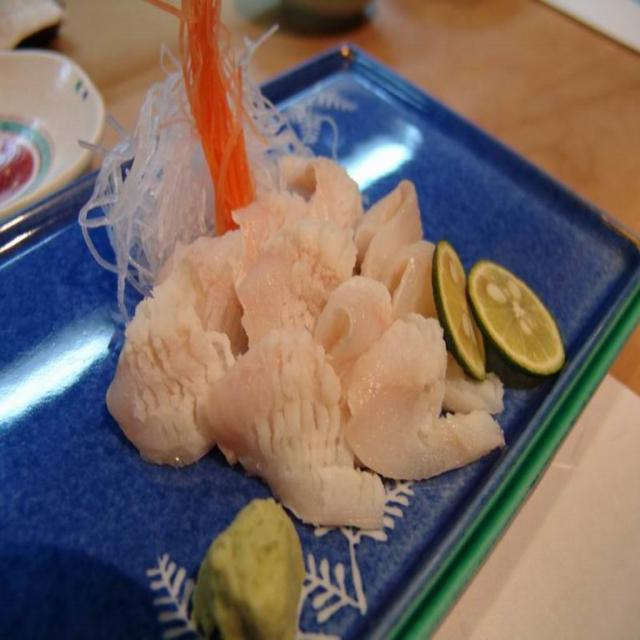Lemon: (467, 257, 567, 375), (431, 237, 487, 375)
